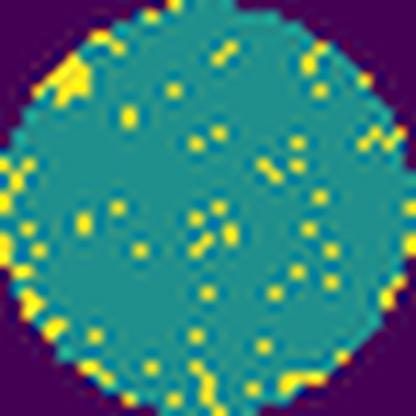Edge-Loc: (31, 56, 98, 109)
